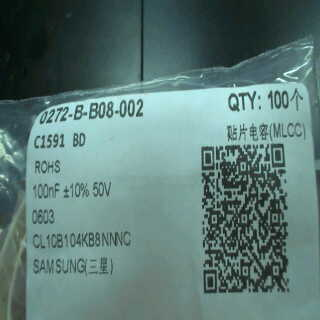100nF: (32, 179, 63, 203)
